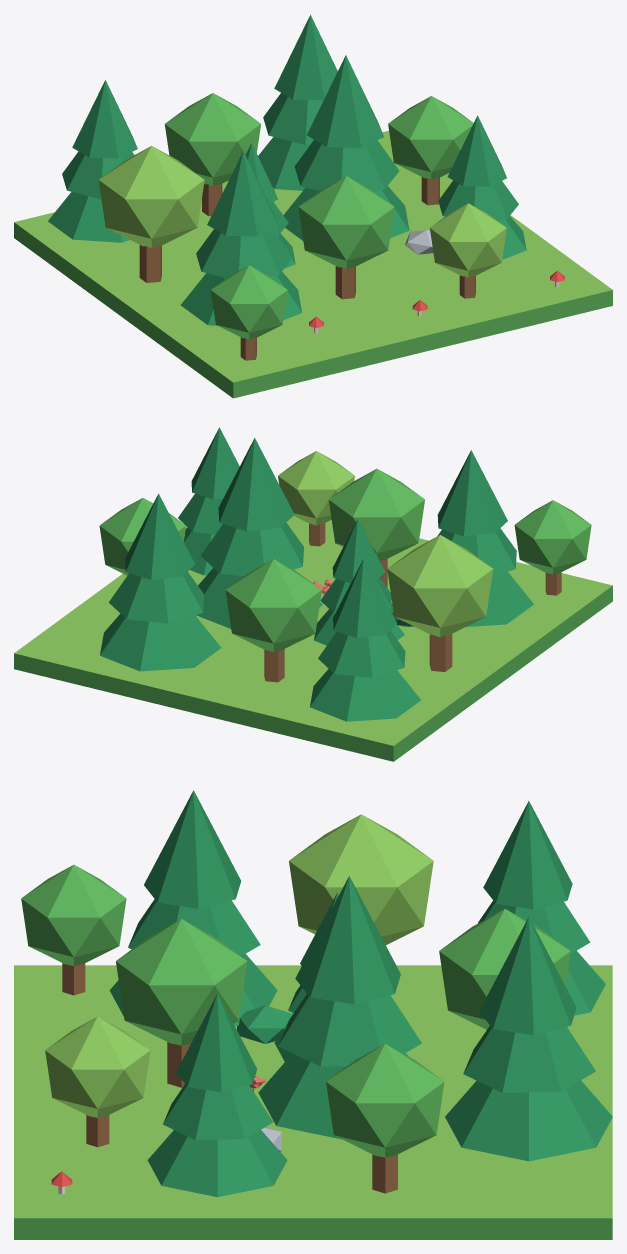
File: nature_forest.glb
3 views of the same model, one above another, from view 1: azimuth 30°, elevation 25°; view 2: azimuth 150°, elevation 25°; view 3: azimuth 270°, elevation 25° (orthographic). The views are drawn at different scales.
Parts seen in each view (by area): view 1: nature_forest; view 2: nature_forest; view 3: nature_forest.
Part boxes in pixels (<box>): nature_forest: <box>14,14,612,398</box>; nature_forest: <box>14,427,612,761</box>; nature_forest: <box>14,790,612,1239</box>.
Size of the model in its own units: 1 by 0.494 by 1.
